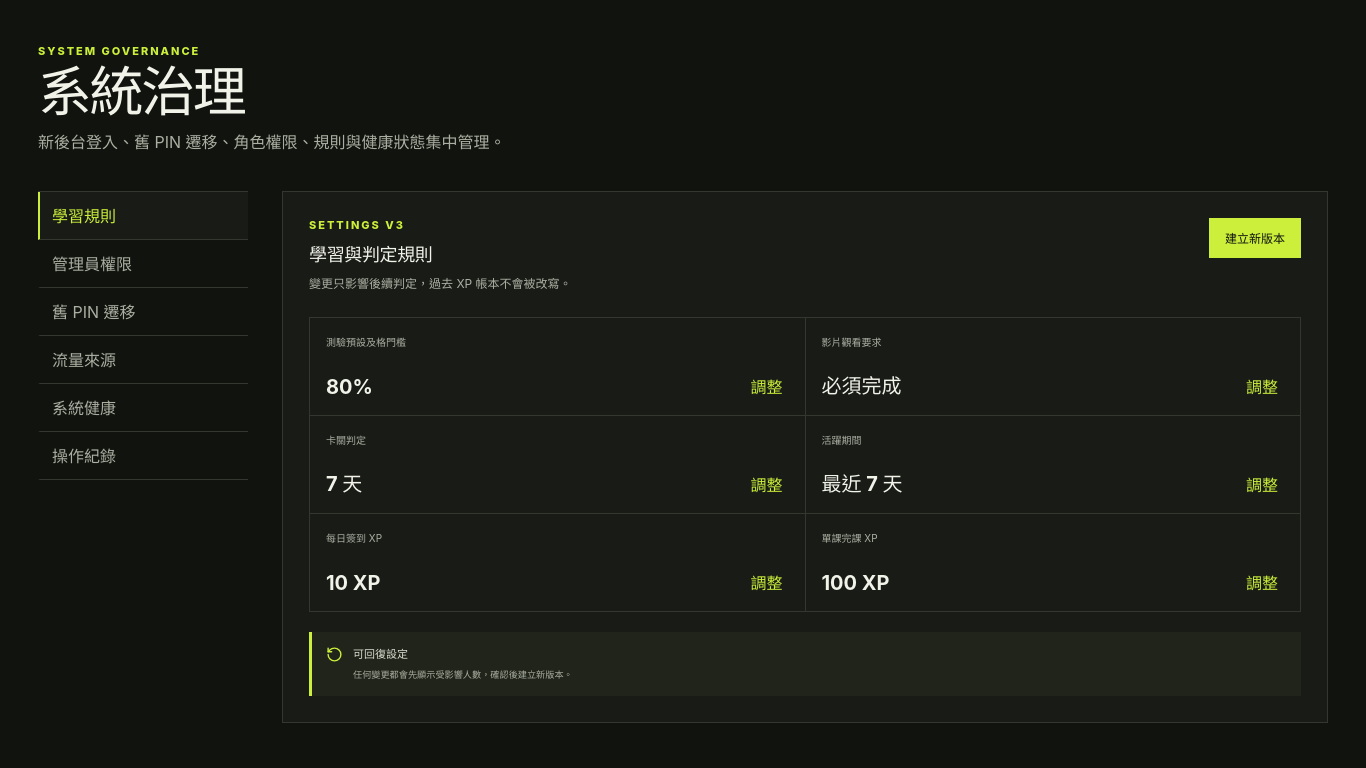
SettingsPage › switches the system-governance content when a navigation tab is selected
Click the button "管理員權限" at (143, 264), box [38,240,248,288]
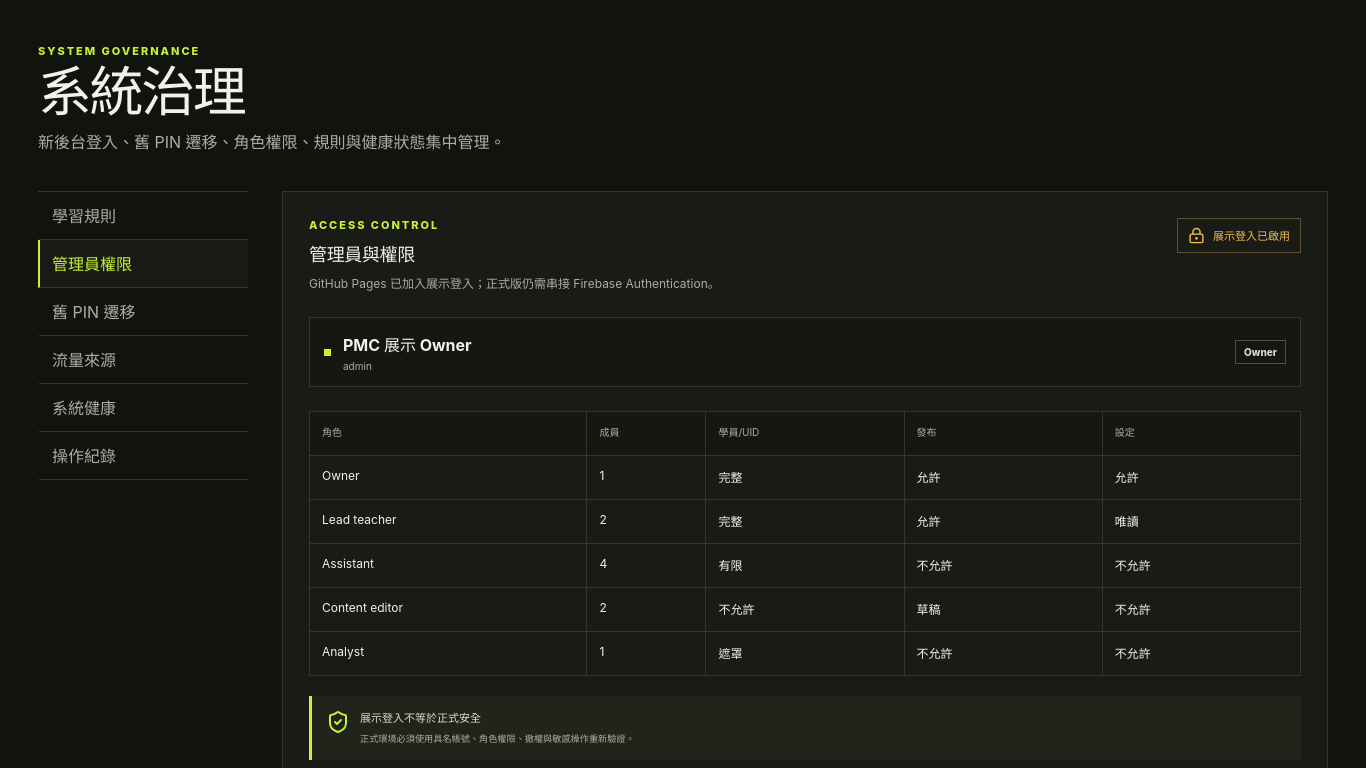
Check: the heading "學習與判定規則" no longer shows "學習與判定規則"
